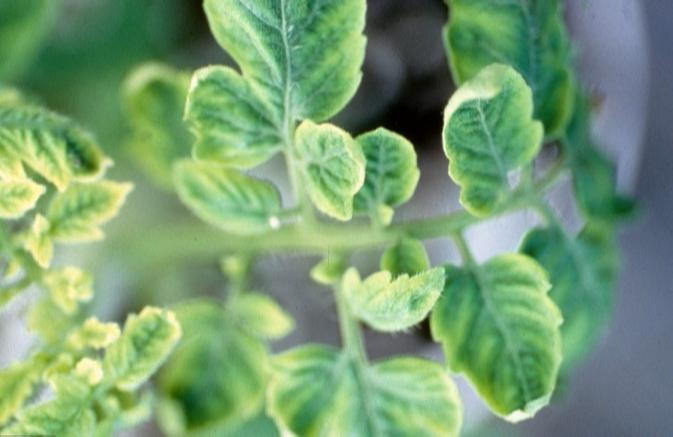Tomato leaf yellow virus: (427, 255, 573, 430), (181, 0, 372, 118), (267, 343, 464, 437), (439, 67, 544, 218), (174, 47, 293, 172), (145, 160, 294, 237), (87, 294, 185, 406), (345, 126, 433, 238), (282, 122, 371, 223), (338, 253, 449, 332), (32, 174, 136, 249)
